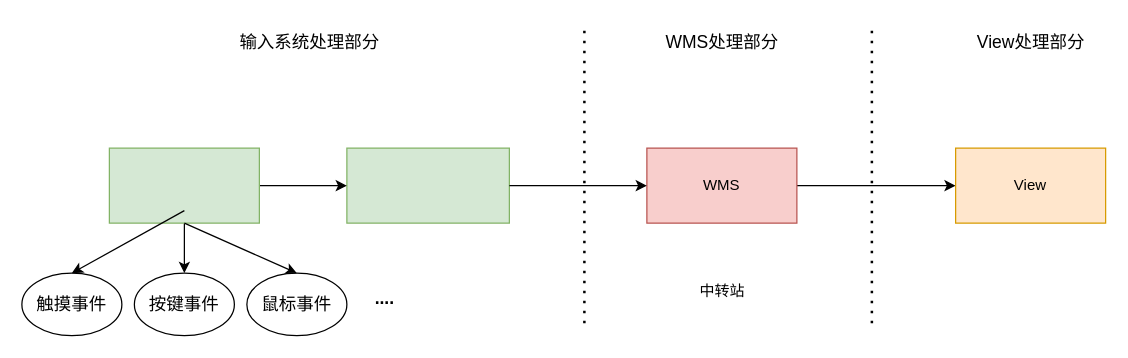
The diagram is 1128 pixels wide and 358 high, and some of its shapes have lost their labels. The centre of each missing label's shape, as x and y in pixels:
"IMS" belongs at pixel 427 185.
"Input子系统" belongs at pixel 183 185.
